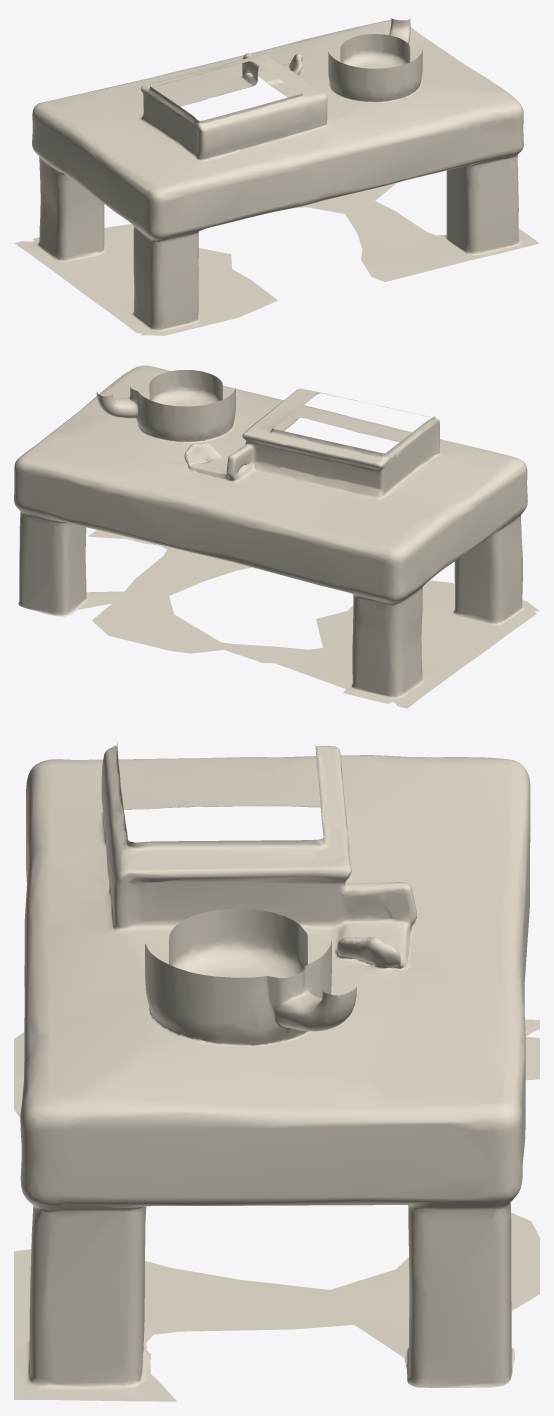
File: study_tea_table.glb
3 renders of one model, top to bottom at view 1: azimuth 30°, elevation 25°; view 2: azimuth 150°, elevation 25°; view 3: azimuth 270°, elevation 25°, orthographic. The views are drawn at different scales.
Bounding box in the file's own units: 0.3695 × 0.162 × 0.2153.
